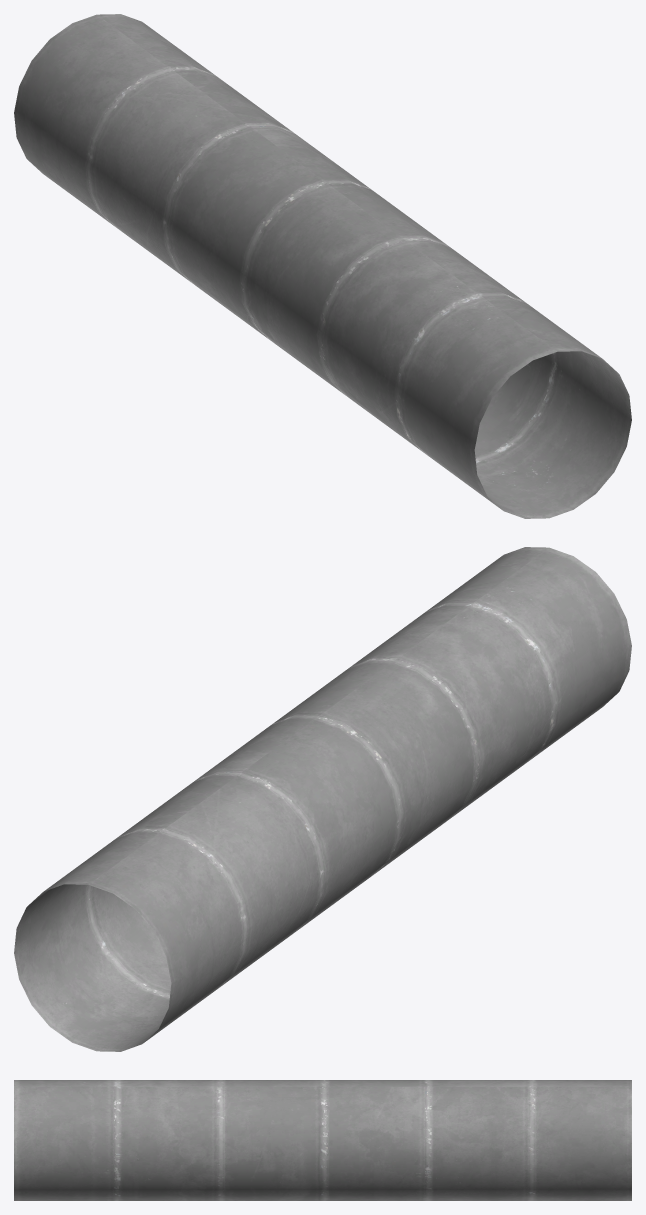
Rendered from SM_Air_Vent_01o.glb.
The picture shows the model from 3 angles, top to bottom: view 1: azimuth 30°, elevation 25°; view 2: azimuth 150°, elevation 25°; view 3: azimuth 270°, elevation 25°; orthographic projection. The views are drawn at different scales.
Parts seen in each view (by area): view 1: SM_Air_Vent_01o; view 2: SM_Air_Vent_01o; view 3: SM_Air_Vent_01o.
Boxes of the visible parts, <box> form: SM_Air_Vent_01o: <box>14,14,631,518</box>; SM_Air_Vent_01o: <box>14,547,631,1051</box>; SM_Air_Vent_01o: <box>14,1080,631,1200</box>.
Bounding box in the file's own units: 0.2958 × 0.2958 × 1.5.
1 material, 1 textured.
